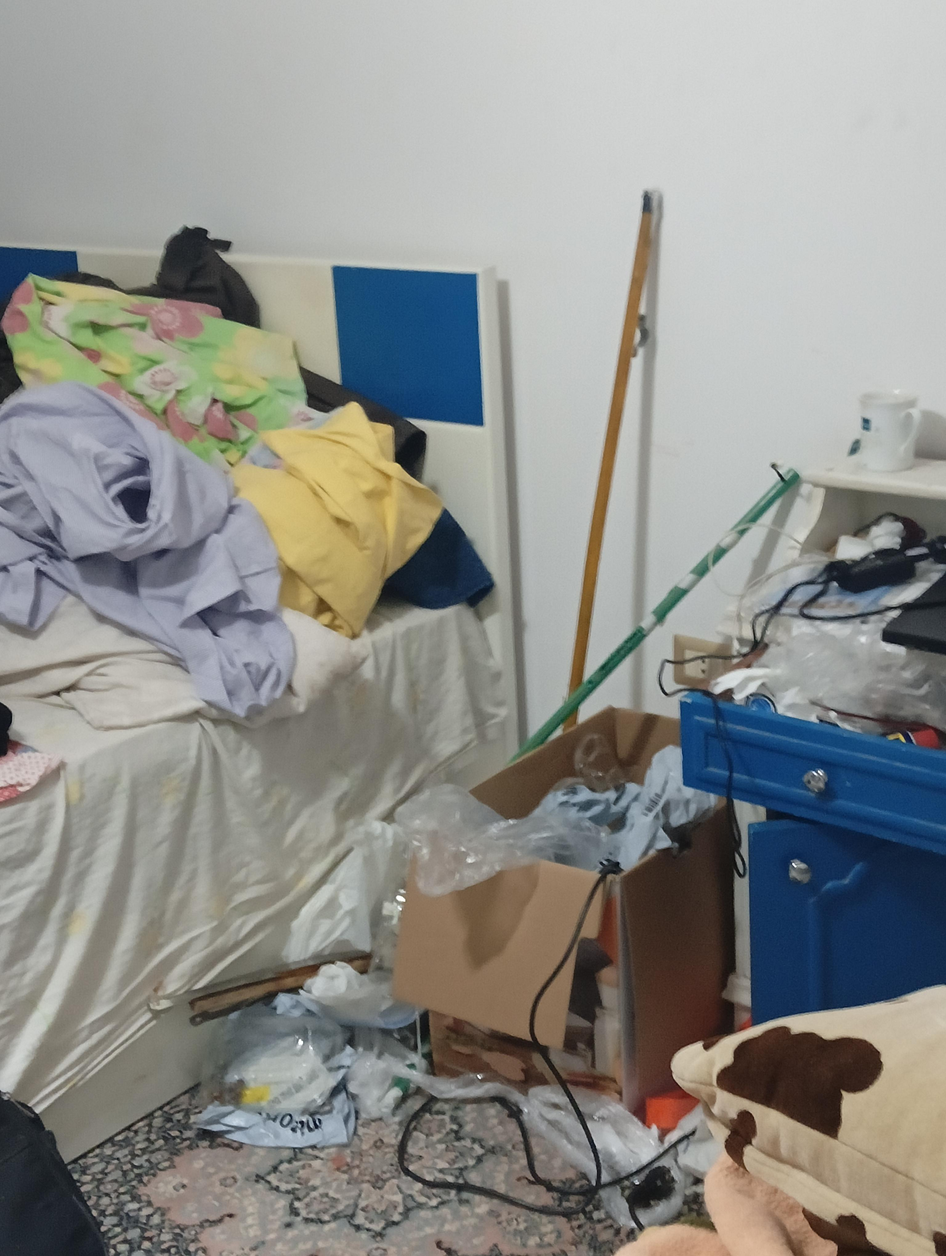cup: (859, 390, 921, 472), (861, 416, 872, 431)
